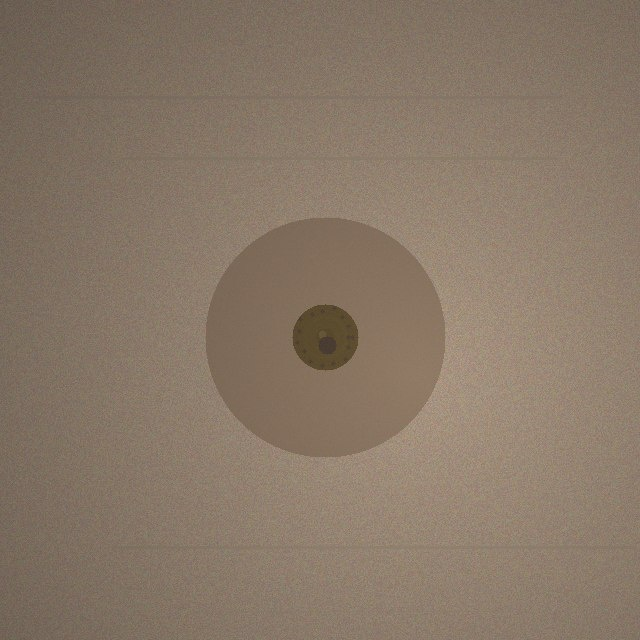cold_weld: (205, 217, 445, 457)
